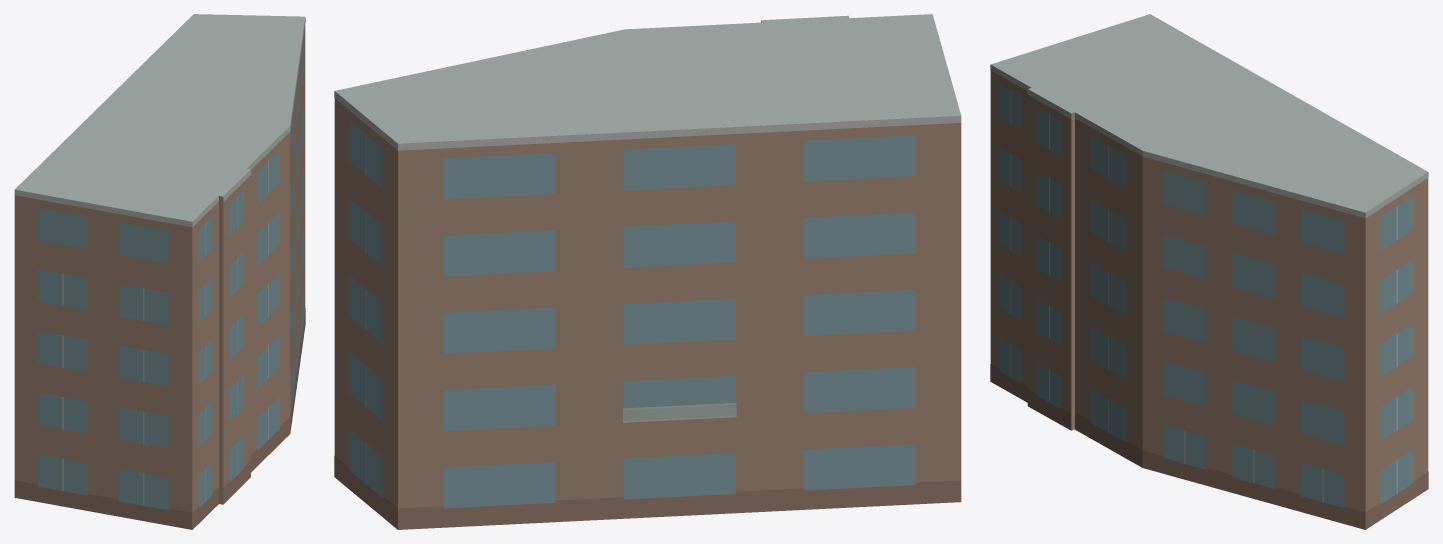
Rendered from survey-upis-33000146.glb.
The picture shows the model from 3 angles, left to right: view 1: azimuth 30°, elevation 25°; view 2: azimuth 150°, elevation 25°; view 3: azimuth 270°, elevation 25°; orthographic projection. The views are drawn at different scales.
Parts seen in each view (by area): view 1: survey-upis-33000146.tmp; view 2: survey-upis-33000146.tmp; view 3: survey-upis-33000146.tmp.
Part boxes in pixels (box(x1,y1,x2,y2)): survey-upis-33000146.tmp: box(14, 14, 305, 529); survey-upis-33000146.tmp: box(334, 14, 961, 529); survey-upis-33000146.tmp: box(990, 14, 1428, 529).
Bounding box in the file's own units: 18.08 × 13.45 × 16.84.
